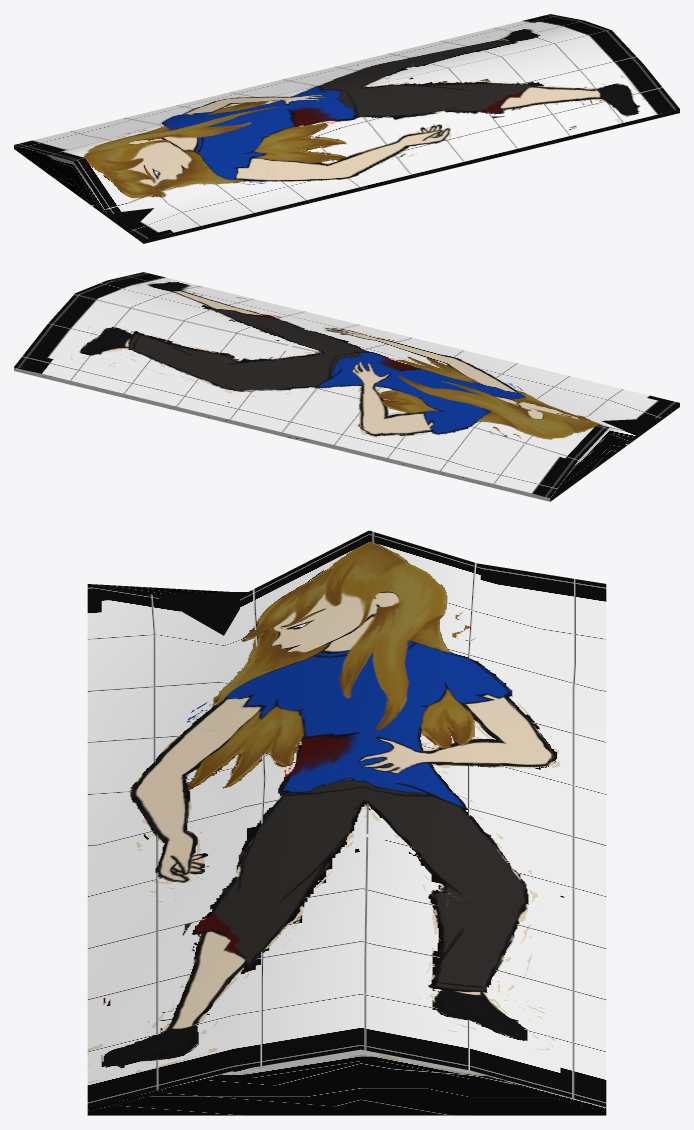
Rendered from Body_1.fbx.
The picture shows the model from 3 angles, top to bottom: view 1: azimuth 30°, elevation 25°; view 2: azimuth 150°, elevation 25°; view 3: azimuth 270°, elevation 25°; orthographic projection. The views are drawn at different scales.
Parts seen in each view (by area): view 1: pCube2; view 2: pCube2; view 3: pCube2.
Boxes of the visible parts, left/top/right/bottom form: pCube2: left=14, top=14, right=679, bottom=243; pCube2: left=14, top=272, right=679, bottom=501; pCube2: left=87, top=530, right=606, bottom=1115.
Bounding box in the file's own units: 1.6 × 0.114 × 0.6701.
1 material, 1 textured.
